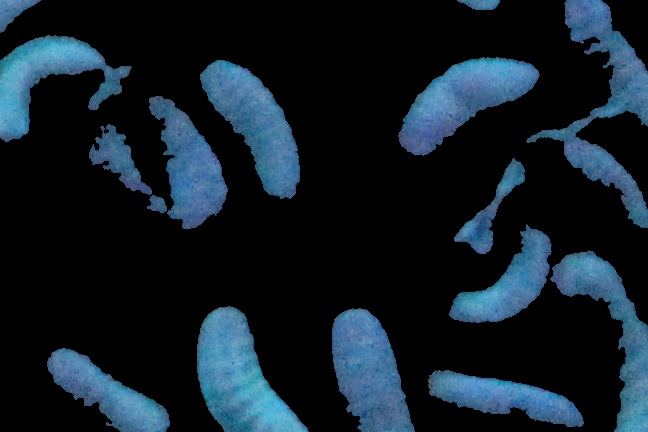larvae: (194, 50, 305, 204), (558, 252, 646, 432), (392, 56, 537, 162), (197, 308, 310, 432), (134, 97, 229, 228), (327, 306, 413, 432), (44, 348, 173, 432), (1, 39, 103, 144), (75, 100, 165, 218), (425, 366, 583, 432), (449, 227, 556, 323), (551, 2, 648, 106), (565, 136, 648, 229)
